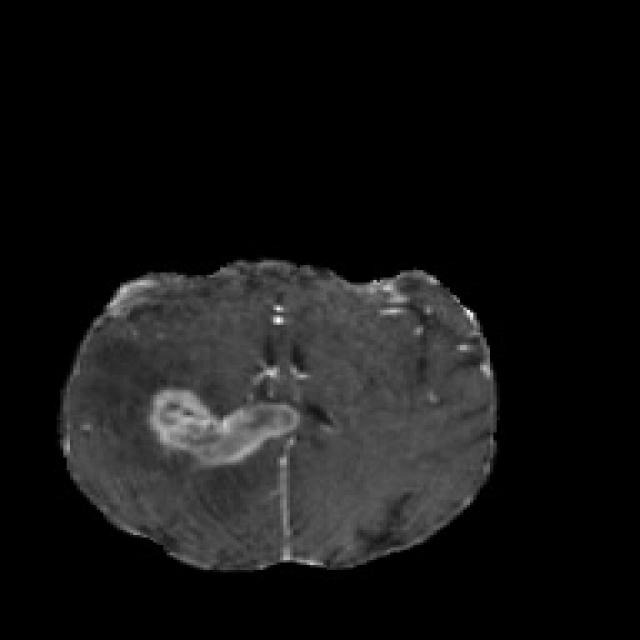positive: (145, 388, 298, 468)
